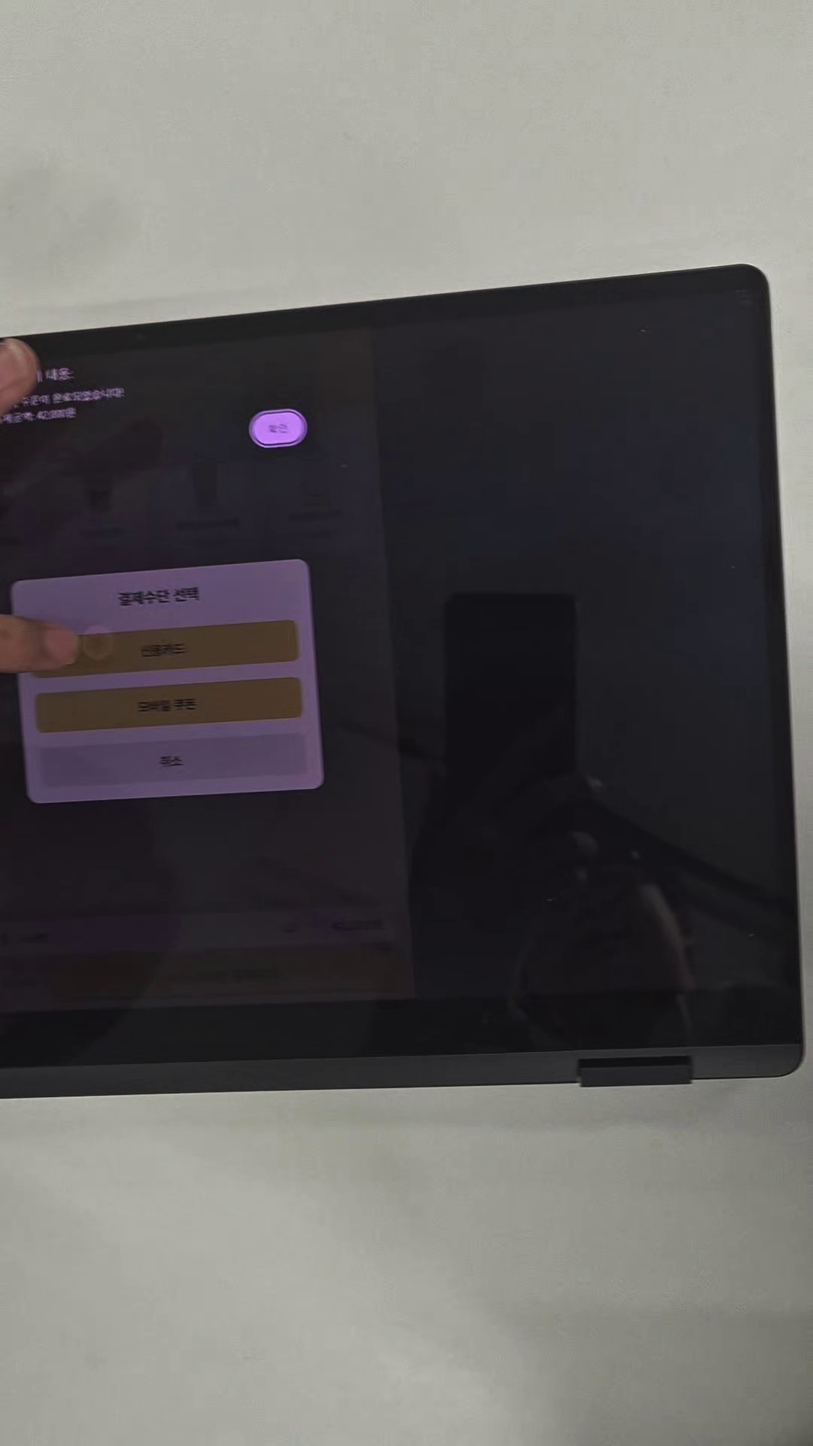option_button: (246, 407, 310, 450)
popup_modal: (311, 333, 323, 477)
